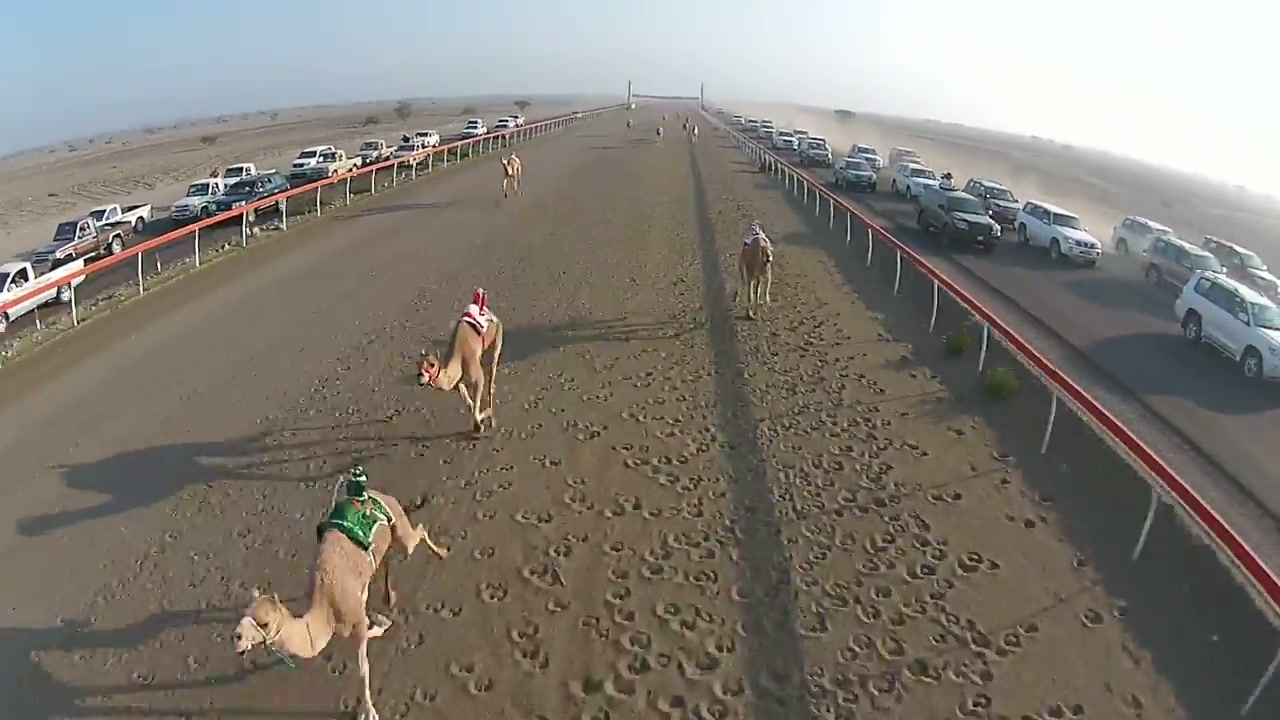animal_foot_print: (372, 227, 1166, 719)
